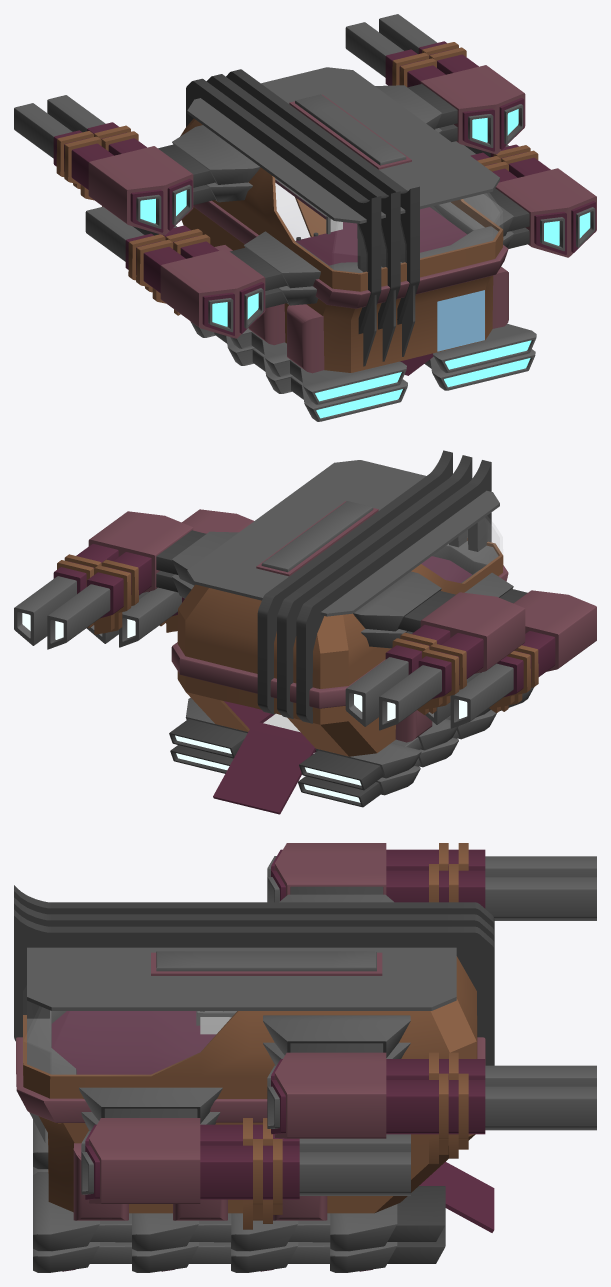
File: Kit Orel.fbx
3 views of the same model, one above another, from view 1: azimuth 30°, elevation 25°; view 2: azimuth 150°, elevation 25°; view 3: azimuth 270°, elevation 25° (orthographic). The views are drawn at different scales.
Parts seen in each view (by area): view 1: Kit Orel, TopBlasters1, TopBlasters2, BottomBlasters1, BottomBlasters2; view 2: Kit Orel, TopBlasters2, TopBlasters1, Kit Orel Door.001, BottomBlasters2, BottomBlasters1; view 3: Kit Orel, TopBlasters2, TopBlasters1, BottomBlasters1, BottomBlasters2, Kit Orel Door.001.
Boxes of the visible parts, x1=… form: Kit Orel: x1=88, y1=65, x2=596, y2=421; TopBlasters1: x1=53, y1=41, x2=478, y2=206; TopBlasters2: x1=14, y1=14, x2=437, y2=158; BottomBlasters1: x1=125, y1=144, x2=550, y2=315; BottomBlasters2: x1=85, y1=141, x2=508, y2=261; Kit Orel: x1=88, y1=450, x2=596, y2=807; TopBlasters2: x1=14, y1=576, x2=441, y2=730; TopBlasters1: x1=53, y1=544, x2=483, y2=714; Kit Orel Door.001: x1=213, y1=729, x2=315, y2=814; BottomBlasters2: x1=86, y1=587, x2=513, y2=728; BottomBlasters1: x1=149, y1=591, x2=555, y2=713; Kit Orel: x1=14, y1=843, x2=494, y2=1272; TopBlasters2: x1=485, y1=856, x2=596, y2=1130; TopBlasters1: x1=386, y1=843, x2=485, y2=1164; BottomBlasters1: x1=200, y1=1118, x2=299, y2=1229; BottomBlasters2: x1=299, y1=1134, x2=410, y2=1195; Kit Orel Door.001: x1=419, y1=1162, x2=494, y2=1232.
Size of the model in its own units: 1442 by 774 by 1411.
